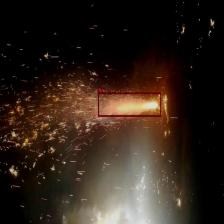fire: (98, 92, 161, 116)
